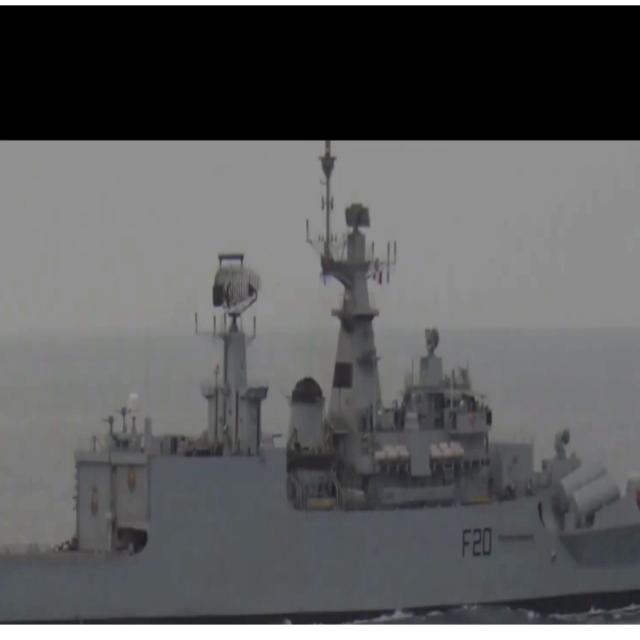OCR: (458, 522, 494, 562)
